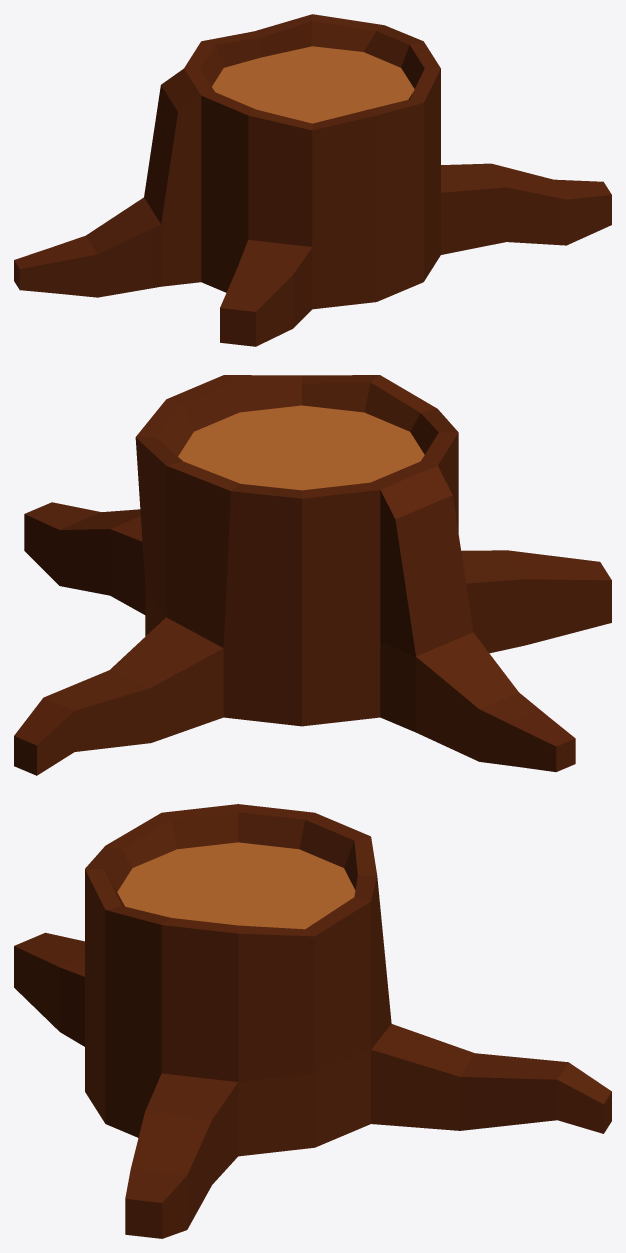
File: Tree Trunk.fbx
The picture shows the model from 3 angles, top to bottom: view 1: azimuth 30°, elevation 25°; view 2: azimuth 150°, elevation 25°; view 3: azimuth 270°, elevation 25°; orthographic projection. The views are drawn at different scales.
Visible parts, largest first — view 1: Cylinder; view 2: Cylinder; view 3: Cylinder.
Boxes of the visible parts, left/top/right/bottom form: Cylinder: left=14, top=14, right=611, bottom=346; Cylinder: left=14, top=375, right=611, bottom=775; Cylinder: left=14, top=804, right=611, bottom=1238.
Bounding box in the file's own units: 219 × 78.78 × 183.
